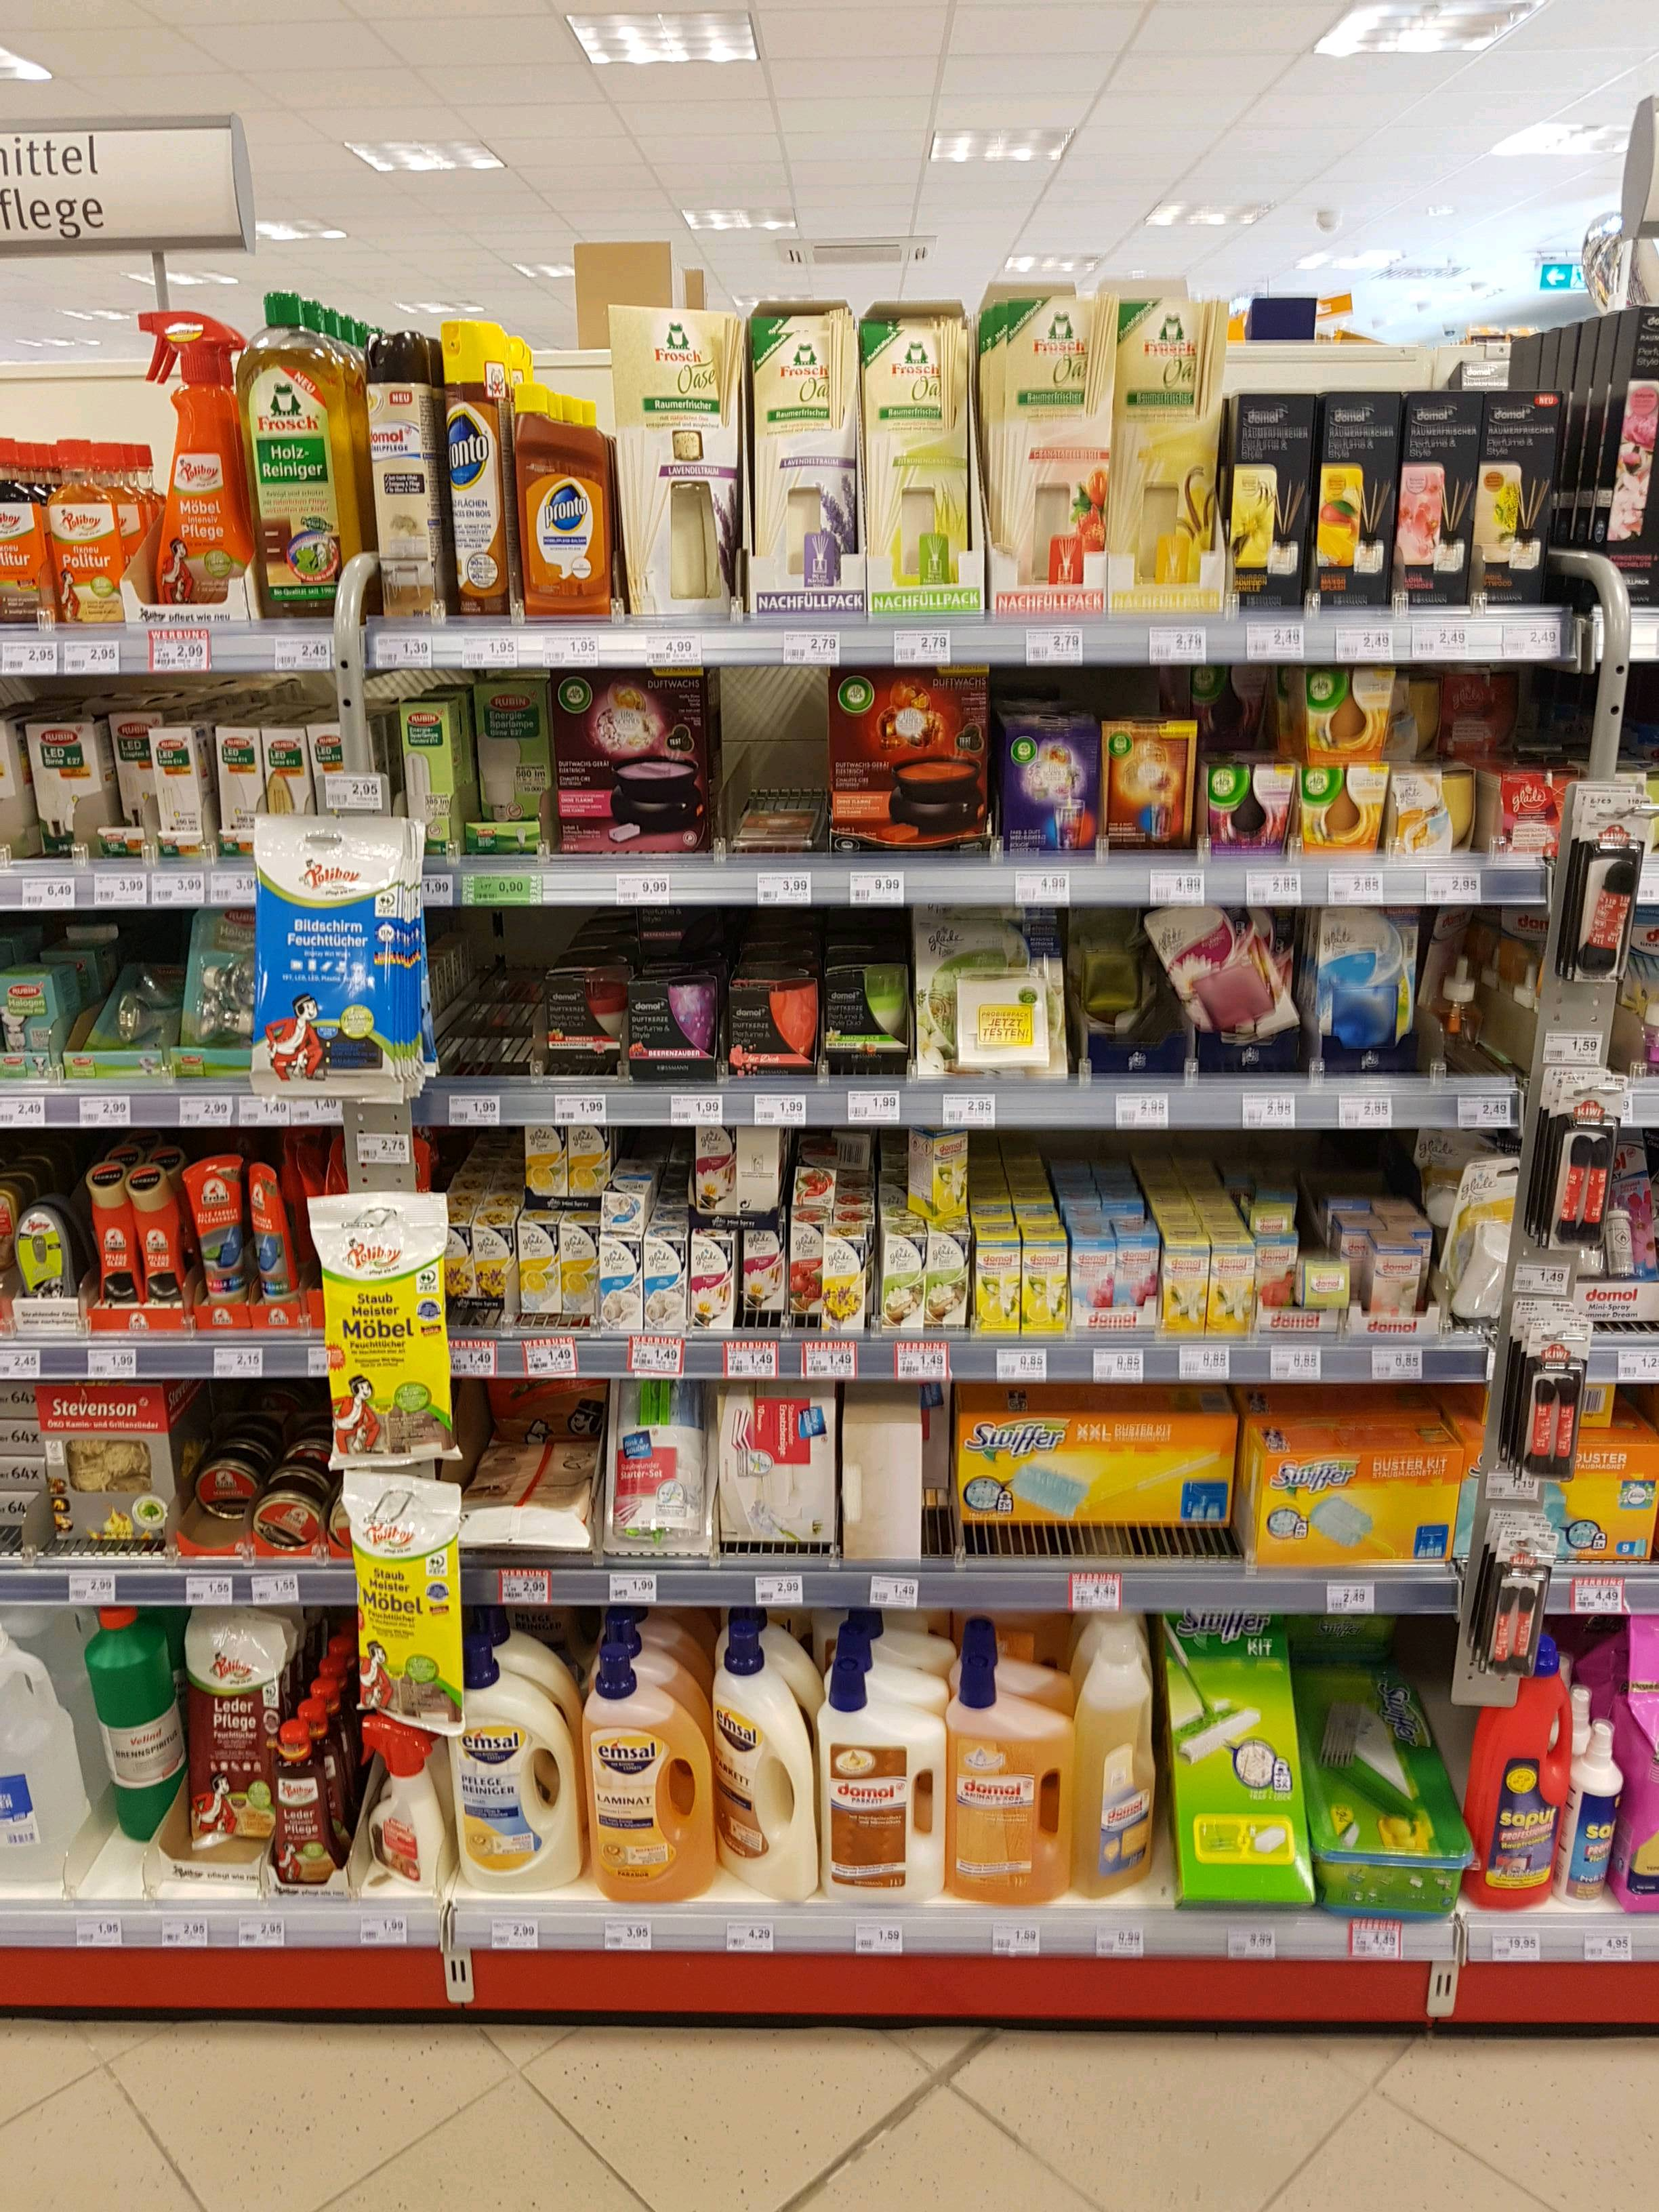product: (992, 282, 1110, 615), (626, 300, 732, 634), (1175, 1613, 1297, 1904), (587, 1609, 709, 1900), (871, 294, 978, 622), (1114, 300, 1215, 624), (744, 301, 847, 615), (324, 1197, 450, 1451), (270, 824, 397, 1075), (967, 1407, 1230, 1527), (826, 1625, 941, 1893), (155, 284, 240, 629), (950, 1646, 1065, 1900), (1326, 1665, 1446, 1905), (836, 669, 990, 845), (563, 669, 706, 850), (258, 294, 338, 615), (1253, 1437, 1457, 1562), (714, 1641, 812, 1900), (925, 904, 1065, 1083), (471, 1644, 572, 1883), (183, 1615, 275, 1871), (2, 1611, 80, 1888), (362, 1475, 451, 1719), (1082, 1629, 1161, 1904), (92, 1601, 176, 1853), (1222, 387, 1307, 625), (364, 327, 429, 634), (1389, 387, 1478, 606), (523, 381, 603, 617), (1486, 380, 1563, 615), (1488, 1683, 1570, 1895), (45, 1411, 166, 1554), (446, 317, 502, 615), (1316, 387, 1387, 617), (1178, 902, 1276, 1066), (728, 1392, 831, 1534), (608, 1383, 697, 1543), (277, 1689, 343, 1900), (465, 1444, 586, 1548), (1438, 902, 1520, 1055), (58, 435, 122, 627), (1319, 914, 1401, 1064), (481, 676, 551, 852), (1570, 812, 1643, 974), (366, 1721, 436, 1890), (1007, 716, 1096, 845), (847, 1418, 920, 1559), (0, 956, 78, 1085), (192, 914, 258, 1062), (1575, 1714, 1628, 1900), (1107, 728, 1192, 841), (1202, 756, 1290, 866), (528, 972, 617, 1076), (37, 718, 101, 860), (1300, 662, 1389, 765), (1478, 1541, 1546, 1676), (0, 435, 45, 631), (1391, 766, 1485, 859), (730, 975, 819, 1073), (1300, 765, 1389, 860), (103, 961, 179, 1068), (138, 1169, 186, 1334), (82, 1174, 132, 1332), (633, 979, 714, 1075), (1204, 655, 1288, 747), (1464, 1176, 1520, 1313), (254, 1167, 300, 1334), (1586, 1447, 1659, 1550), (1614, 1130, 1659, 1294), (413, 711, 465, 850), (833, 968, 908, 1064), (1518, 1352, 1581, 1465), (157, 721, 204, 866), (200, 1158, 240, 1324), (1492, 765, 1554, 869), (1086, 956, 1143, 1066), (1549, 1113, 1598, 1237), (737, 787, 814, 864), (1459, 658, 1520, 751), (918, 1129, 983, 1212), (216, 723, 256, 857), (823, 1221, 871, 1324), (26, 1209, 71, 1313), (119, 718, 152, 860), (1394, 671, 1450, 752), (474, 1216, 512, 1327), (974, 1249, 1023, 1334), (195, 1456, 254, 1526), (739, 1235, 782, 1324), (265, 721, 303, 819), (1380, 1242, 1425, 1322), (931, 1238, 969, 1332), (308, 721, 347, 815), (749, 1127, 788, 1219), (1262, 1233, 1297, 1332), (261, 1486, 314, 1552), (650, 1233, 687, 1327), (1161, 1256, 1202, 1338), (788, 1226, 821, 1329), (1302, 1263, 1351, 1332), (887, 1238, 922, 1334), (699, 1127, 737, 1212), (570, 1120, 606, 1205), (699, 1238, 732, 1332), (606, 1240, 640, 1334), (528, 1122, 565, 1205), (1216, 1256, 1253, 1339), (523, 1219, 554, 1313), (1033, 1245, 1068, 1329), (1124, 1245, 1157, 1332), (566, 1226, 598, 1313), (1080, 1261, 1115, 1322), (606, 1190, 648, 1230), (802, 1169, 838, 1211)
